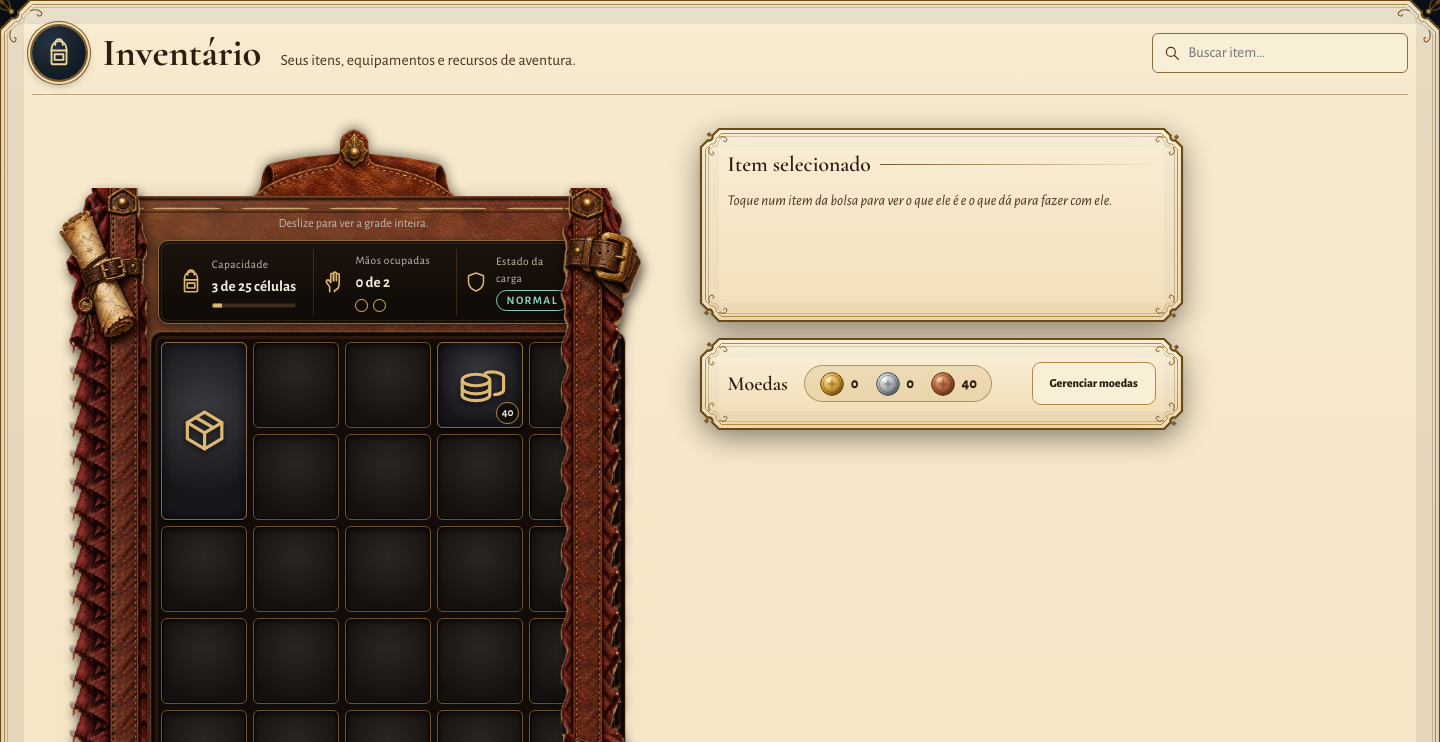
Test: InventoryGridPanel › adicionar moedas envia só o que entra, com a versão da ficha, e aplica a grade devolvida
This screenshot has width=1440, height=742.
Click the button "Gerenciar moedas": (1094, 384) [1032,362,1156,405]
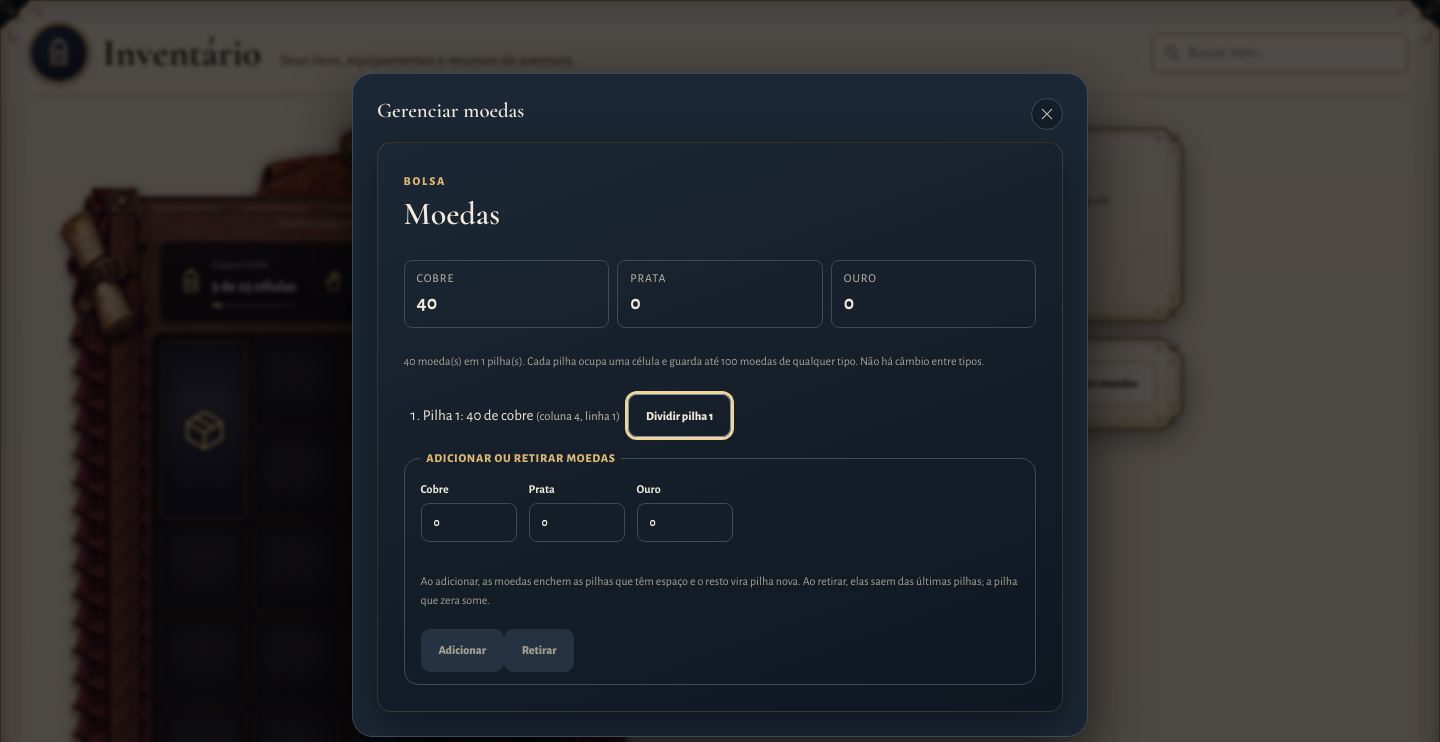
Check: the element "Moedas" shows "40 moeda(s) em 1 pilha(s). Cada pilha ocupa uma célula e guarda até 100", box [377,142,1063,712]
Replace the text in the number field labelled "Ouro" with "7": (685, 523) [637,503,733,542]
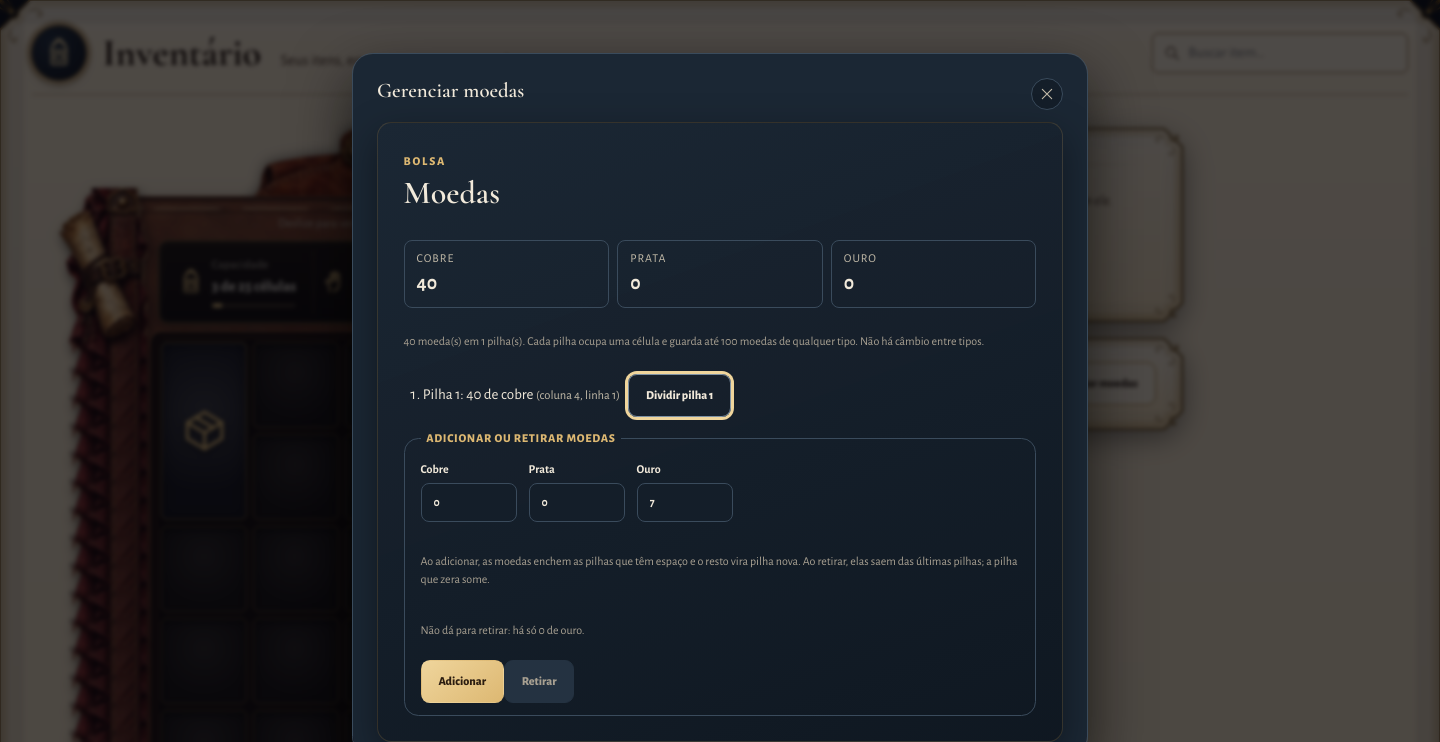
Click the button "Adicionar": (462, 681) [421,660,504,703]
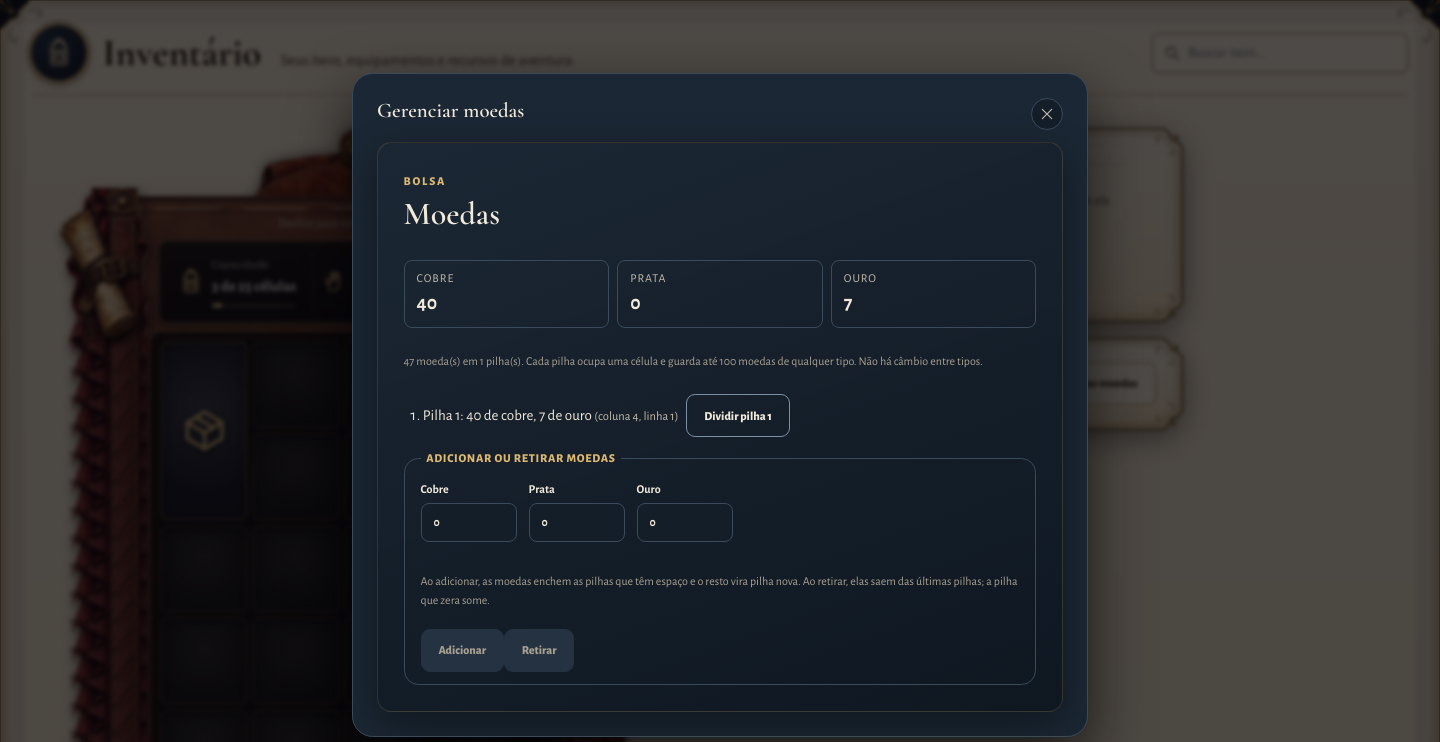
Check: the element "Moedas" shows "47 moeda(s)", box [377,142,1063,712]
